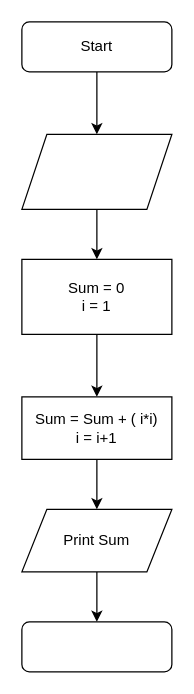
This 194x694 diagram has some shape labels left out. Here are the shapes that lost their labels. From the top down, the box of each, then its label:
(21, 133, 172, 209): Enter= n
(21, 621, 172, 672): Stop
